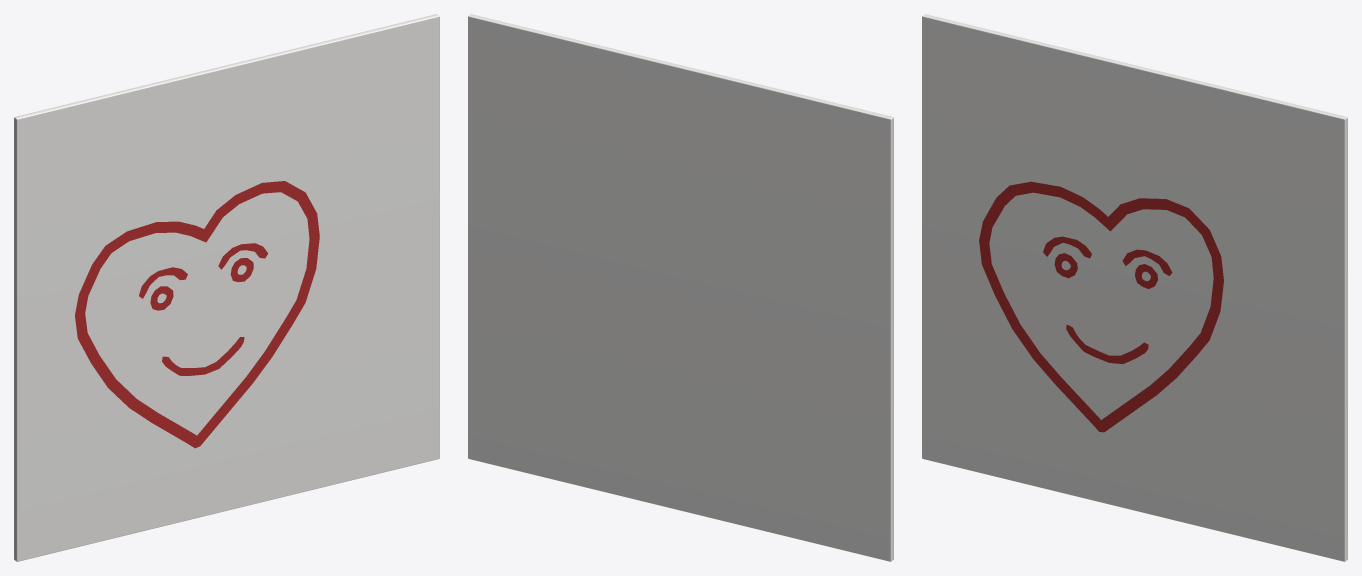
The model's file is Frame_7.glb.
The picture shows the model from 3 angles, left to right: view 1: azimuth 30°, elevation 25°; view 2: azimuth 150°, elevation 25°; view 3: azimuth 330°, elevation 25°; orthographic projection.
Visible parts, largest first — view 1: Childrens_Drawing_2; view 2: Childrens_Drawing_2; view 3: Childrens_Drawing_2.
Boxes of the visible parts, bbox=[...] form: Childrens_Drawing_2: bbox=[14, 14, 439, 561]; Childrens_Drawing_2: bbox=[468, 14, 893, 561]; Childrens_Drawing_2: bbox=[922, 14, 1347, 561].
Size of the model in its own units: 0.624 by 0.624 by 0.00914.
Materials: 1 (1 with a texture image).
